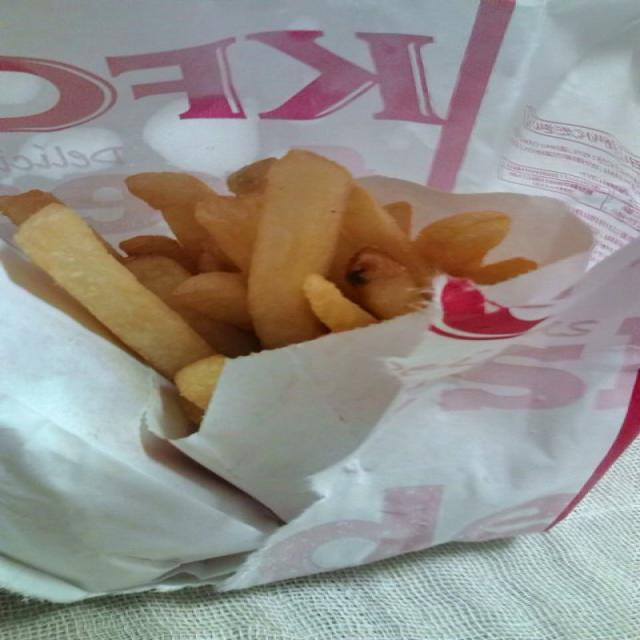French Fries: (0, 152, 549, 381)
